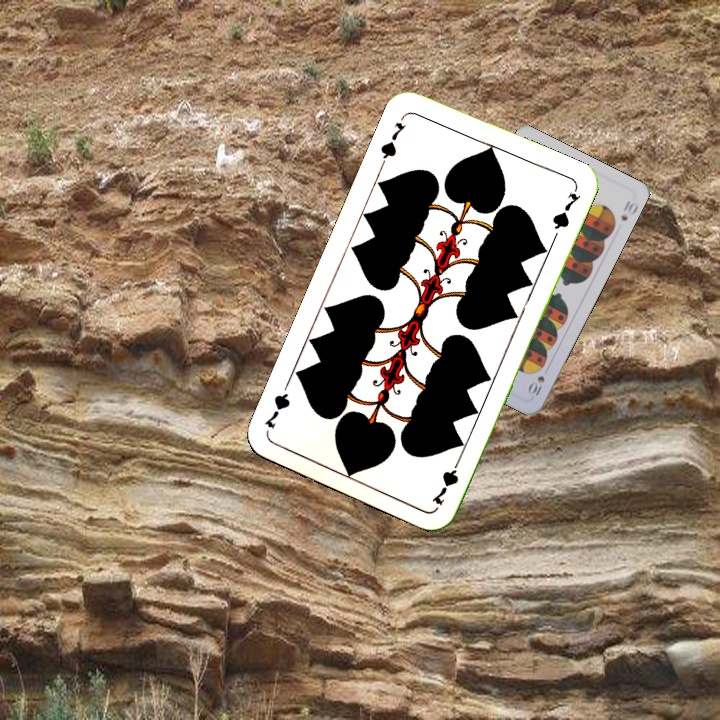G7: (427, 452, 465, 508), (376, 118, 409, 168)
S10: (524, 372, 547, 400)
